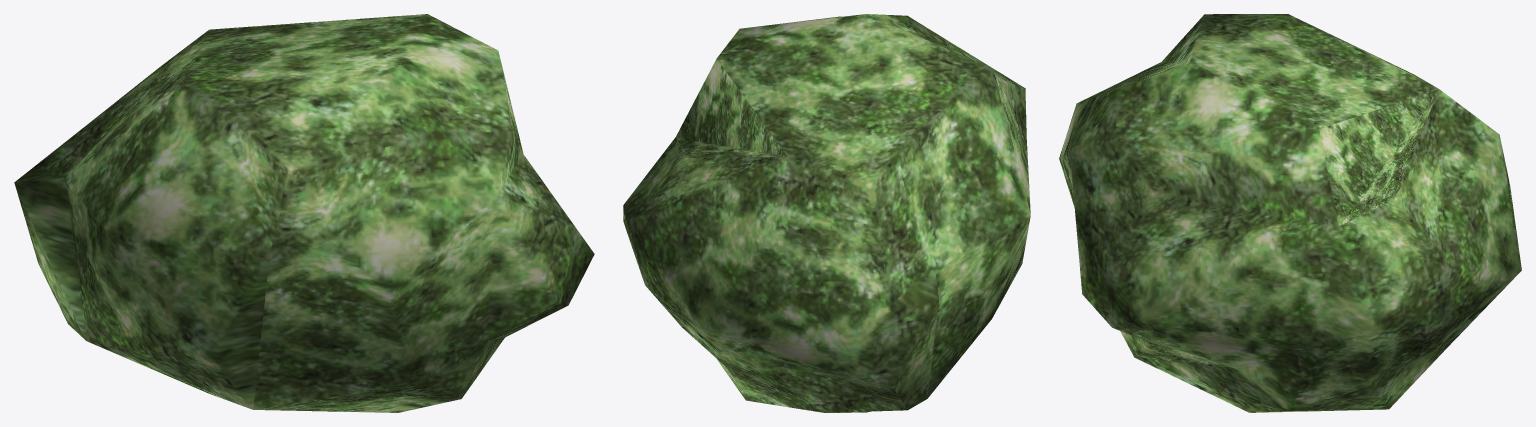
Rendered from asteroid_acid_large_s01_l3.fbx.
3 views of the same model, side by side, from view 1: azimuth 30°, elevation 25°; view 2: azimuth 150°, elevation 25°; view 3: azimuth 270°, elevation 25° (orthographic). The views are drawn at different scales.
Visible parts, largest first — view 1: mesh_node; view 2: mesh_node; view 3: mesh_node.
Boxes of the visible parts, x1=… form: mesh_node: x1=14, y1=14, x2=594, y2=412; mesh_node: x1=623, y1=14, x2=1030, y2=412; mesh_node: x1=1059, y1=14, x2=1521, y2=412.
Bounding box in the file's own units: 106 × 90.22 × 113.
Materials: 1 (1 with a texture image).
